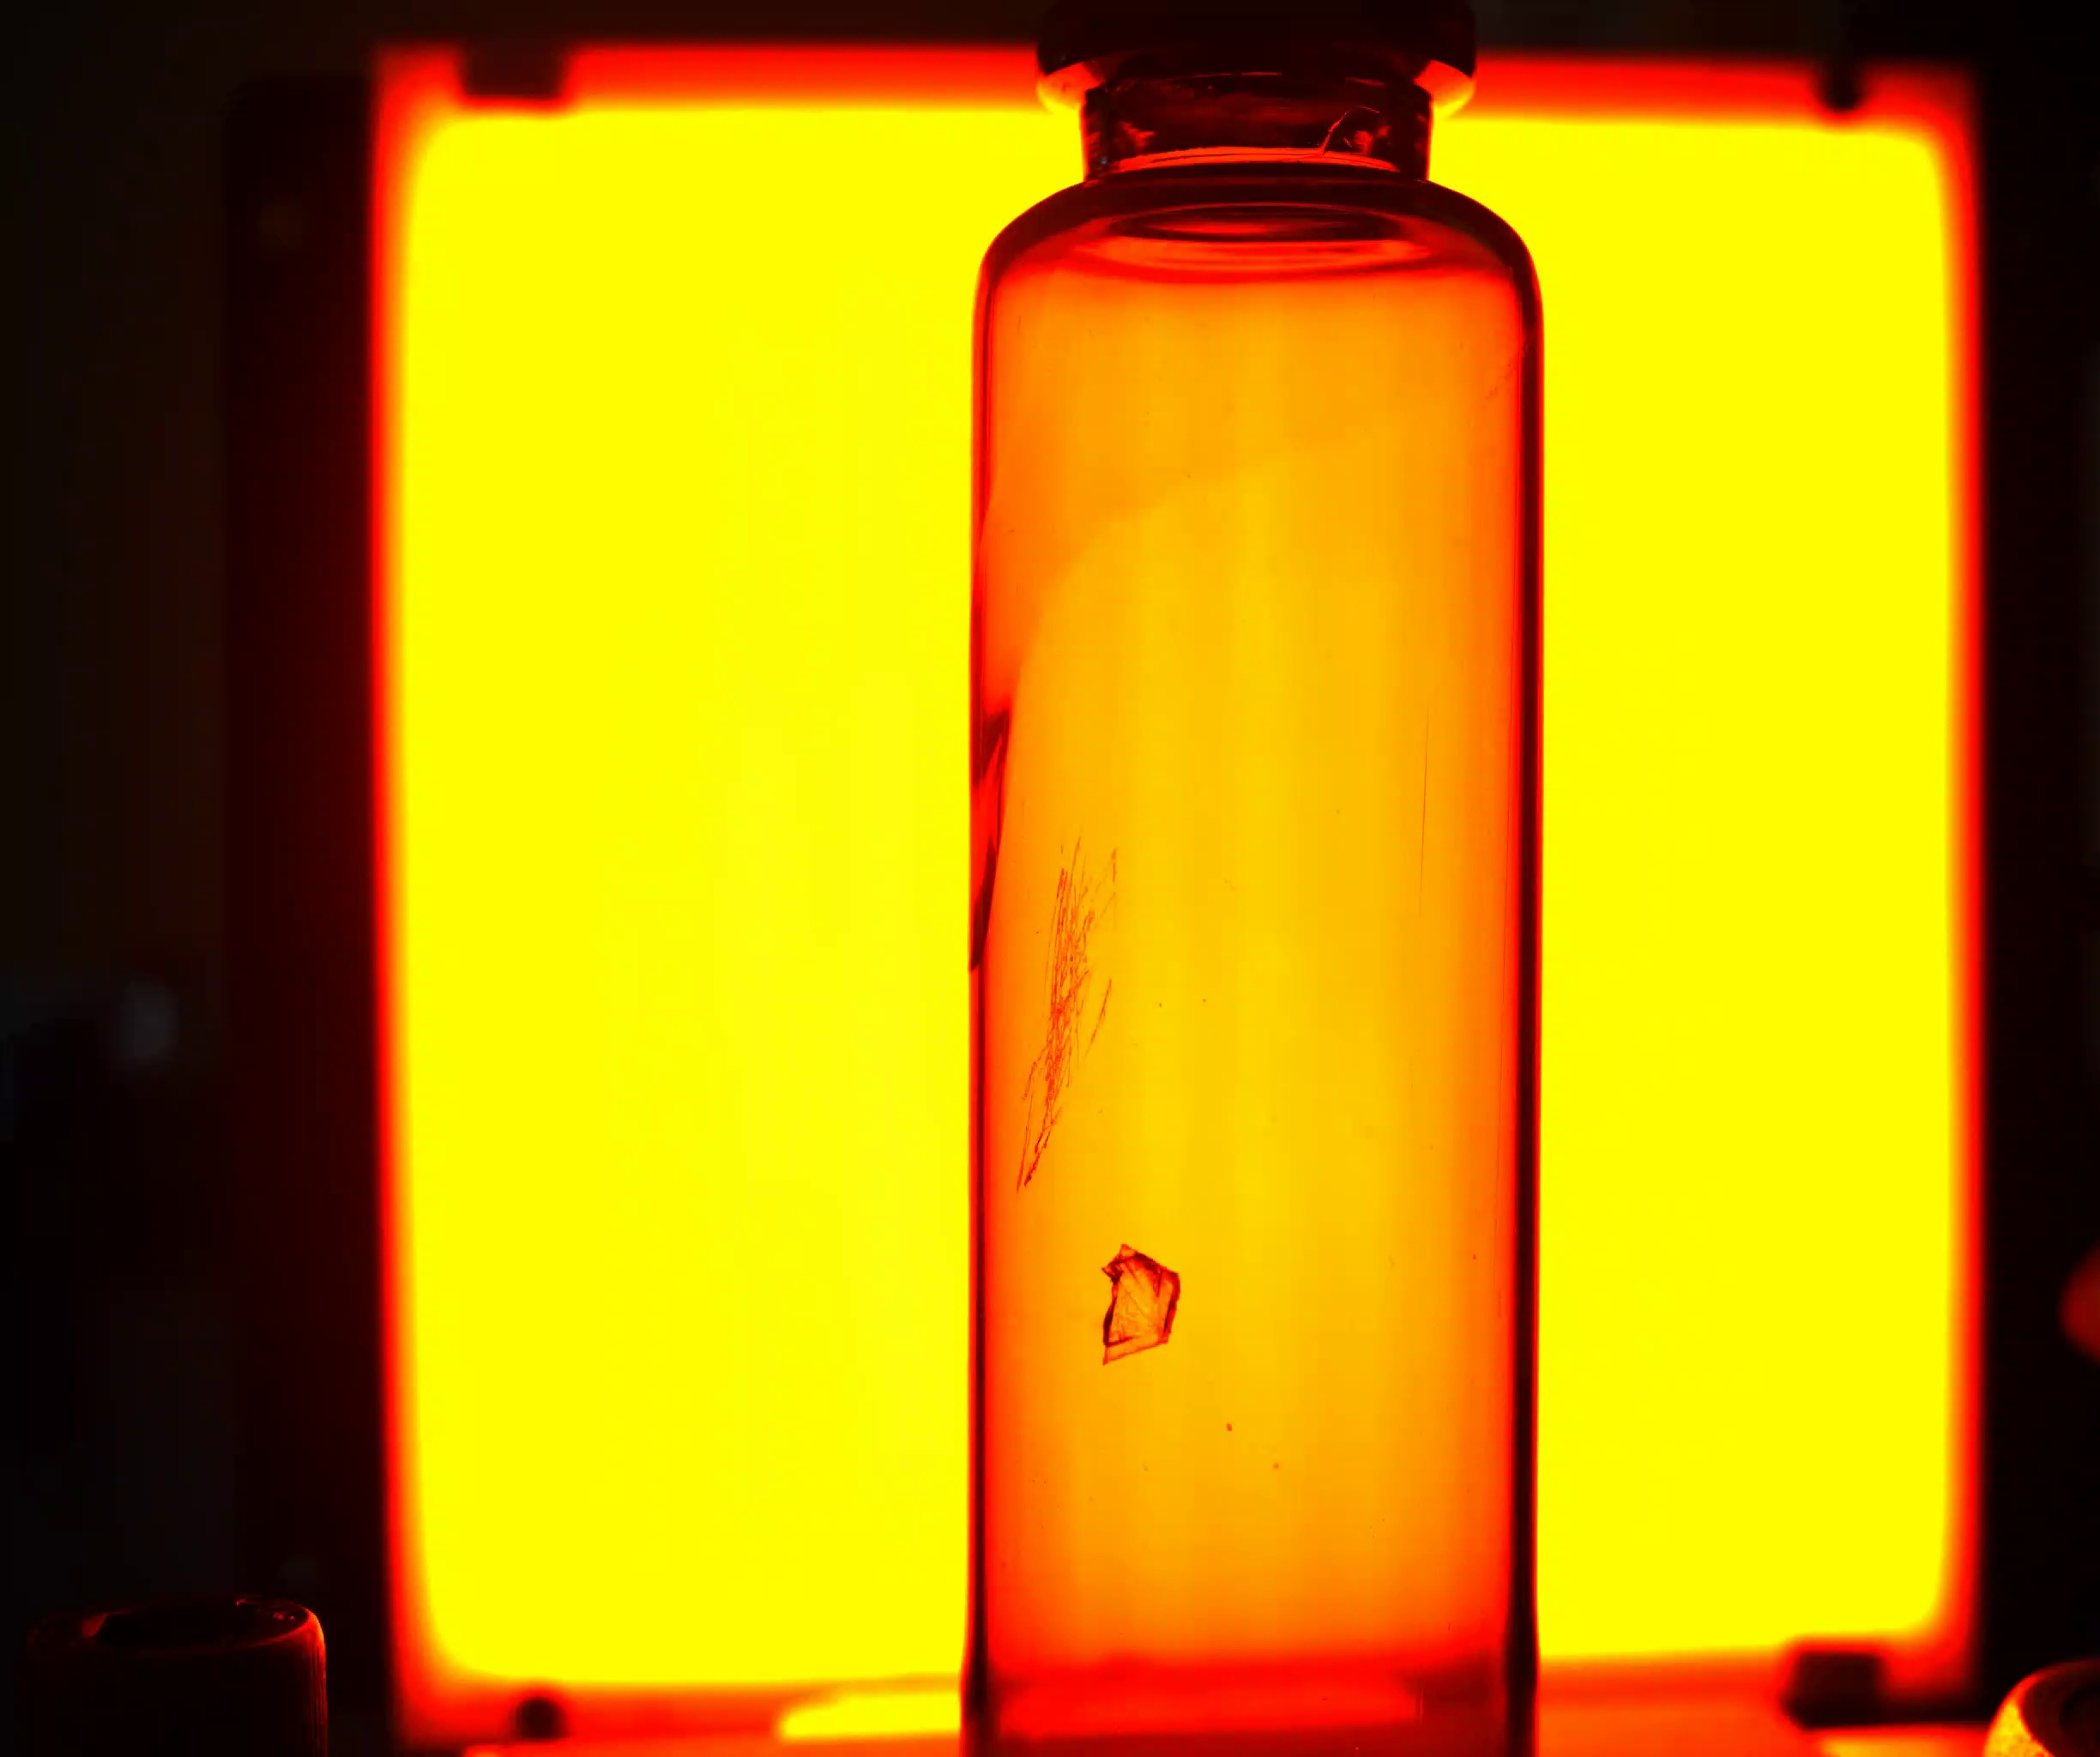scratch: (1022, 846, 1118, 1176)
thorny: (1101, 1244, 1177, 1363)
